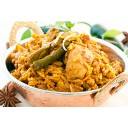briyani: (15, 36, 112, 85)
